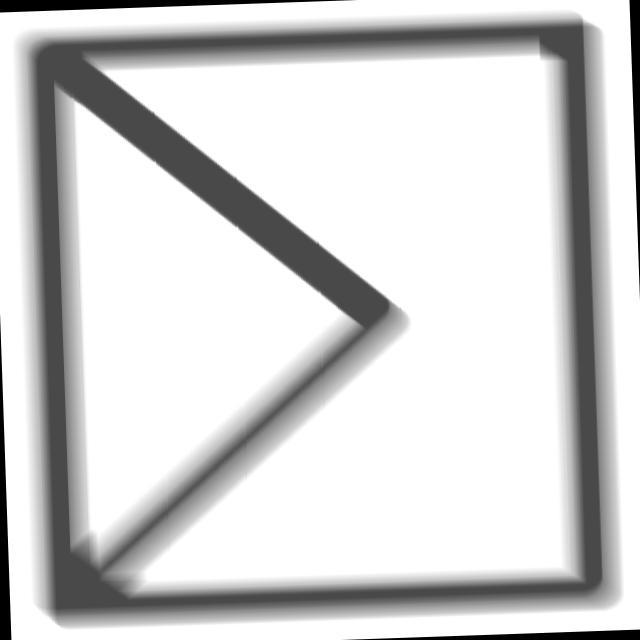letter: (20, 7, 629, 640)
